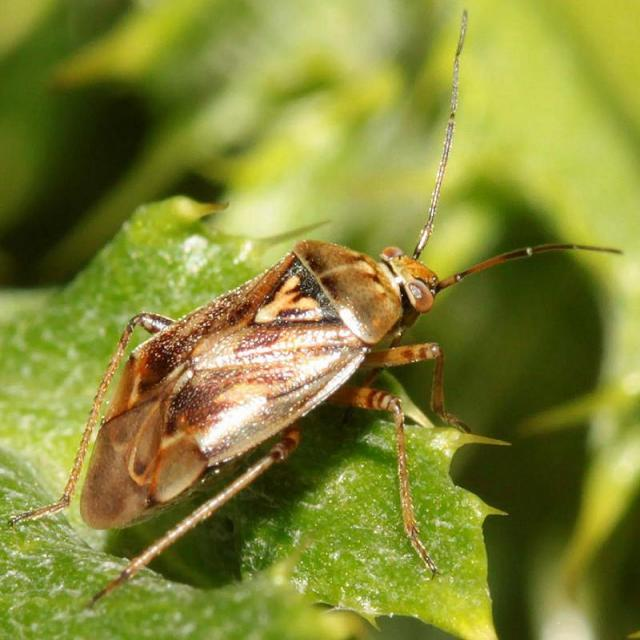Miridae-Adult-: (53, 4, 566, 600)
